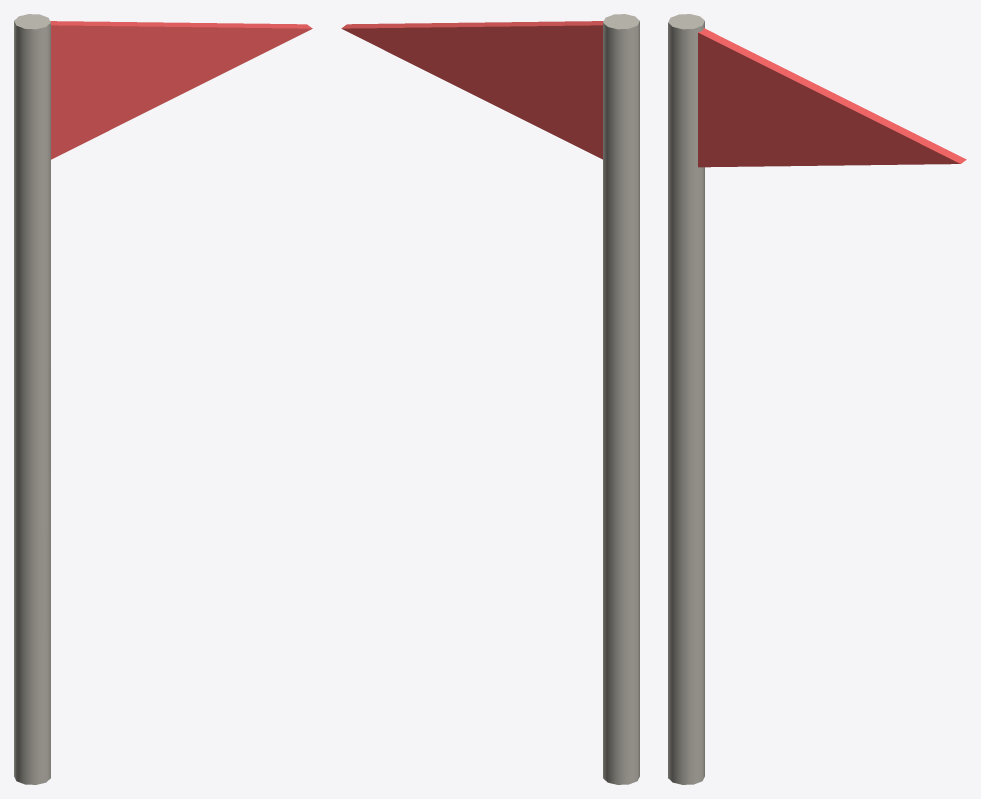
The model's file is SM_Flag.FBX.
The picture shows the model from 3 angles, left to right: view 1: azimuth 30°, elevation 25°; view 2: azimuth 150°, elevation 25°; view 3: azimuth 330°, elevation 25°; orthographic projection.
Visible parts, largest first — view 1: flag; view 2: flag; view 3: flag.
Boxes of the visible parts, x1,y1,x2,y2 form: flag: (14, 14, 312, 784); flag: (341, 14, 639, 784); flag: (668, 14, 966, 784).
Size of the model in its own units: 57.29 by 141 by 5.96.
